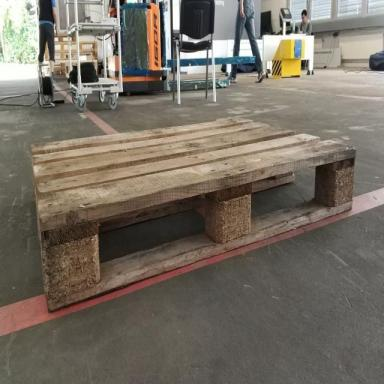pallet: (31, 117, 356, 313), (98, 194, 205, 278), (251, 166, 316, 218)
